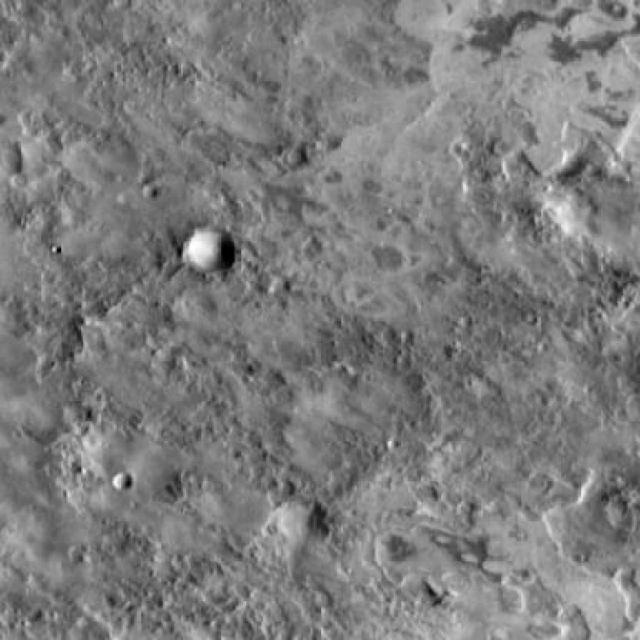crater: (178, 226, 235, 279), (104, 473, 122, 490)
